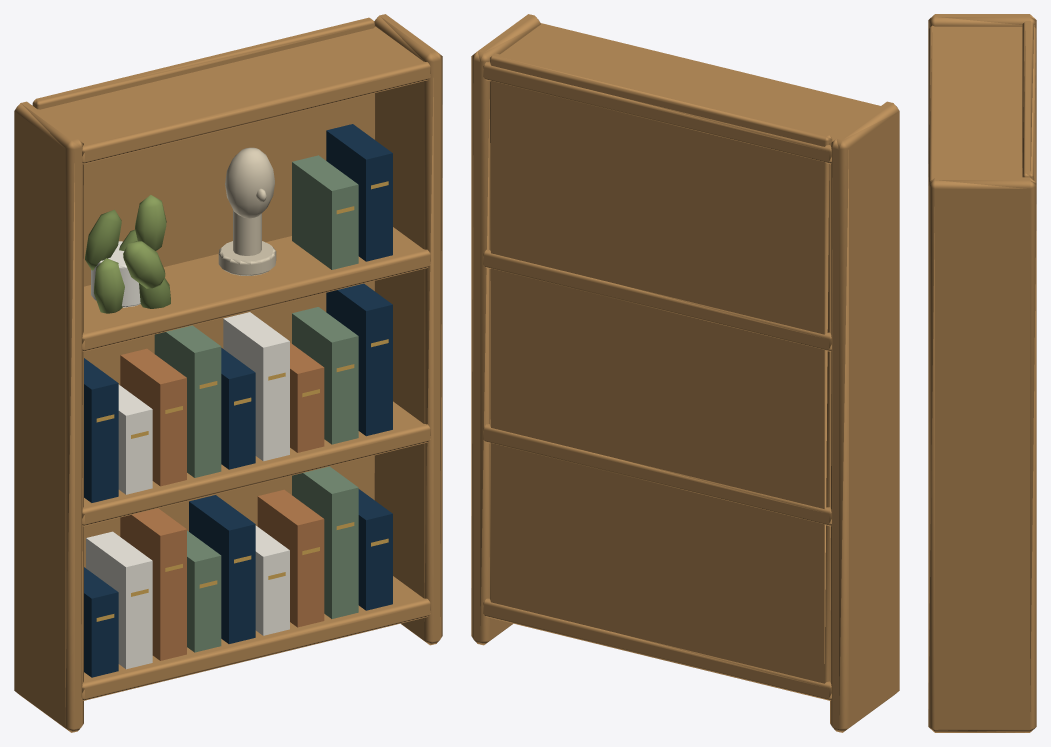
The model's file is bookshelf.fbx.
3 renders of one model, left to right at view 1: azimuth 30°, elevation 25°; view 2: azimuth 150°, elevation 25°; view 3: azimuth 270°, elevation 25°, orthographic. The views are drawn at different scales.
Visible parts, largest first — view 1: bookshelf; view 2: bookshelf; view 3: bookshelf.
Part boxes in pixels (left/top/right/bottom): bookshelf: left=14, top=14, right=442, bottom=732; bookshelf: left=471, top=14, right=899, bottom=732; bookshelf: left=928, top=14, right=1036, bottom=732.
Bounding box in the file's own units: 120 × 180 × 32.
